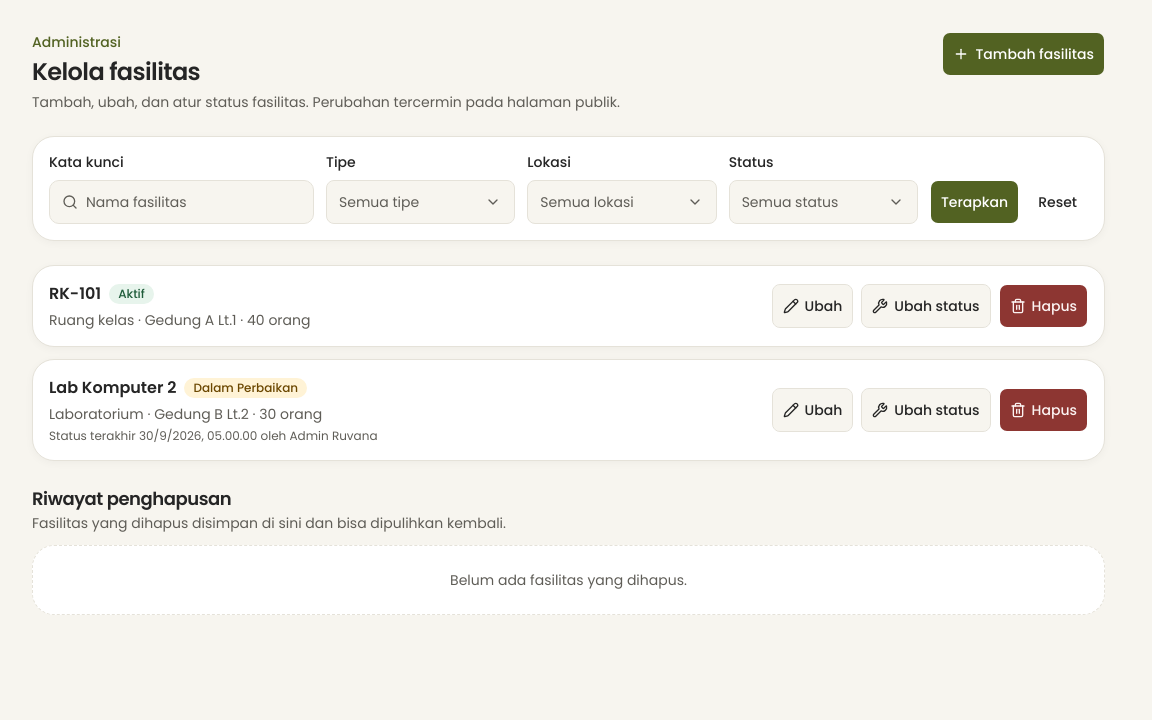
Test: AdminFacilities › membuka sheet tambah fasilitas
The image size is (1152, 720).
Click the button "Tambah fasilitas".
click(1024, 54)  # box [942,32,1105,76]
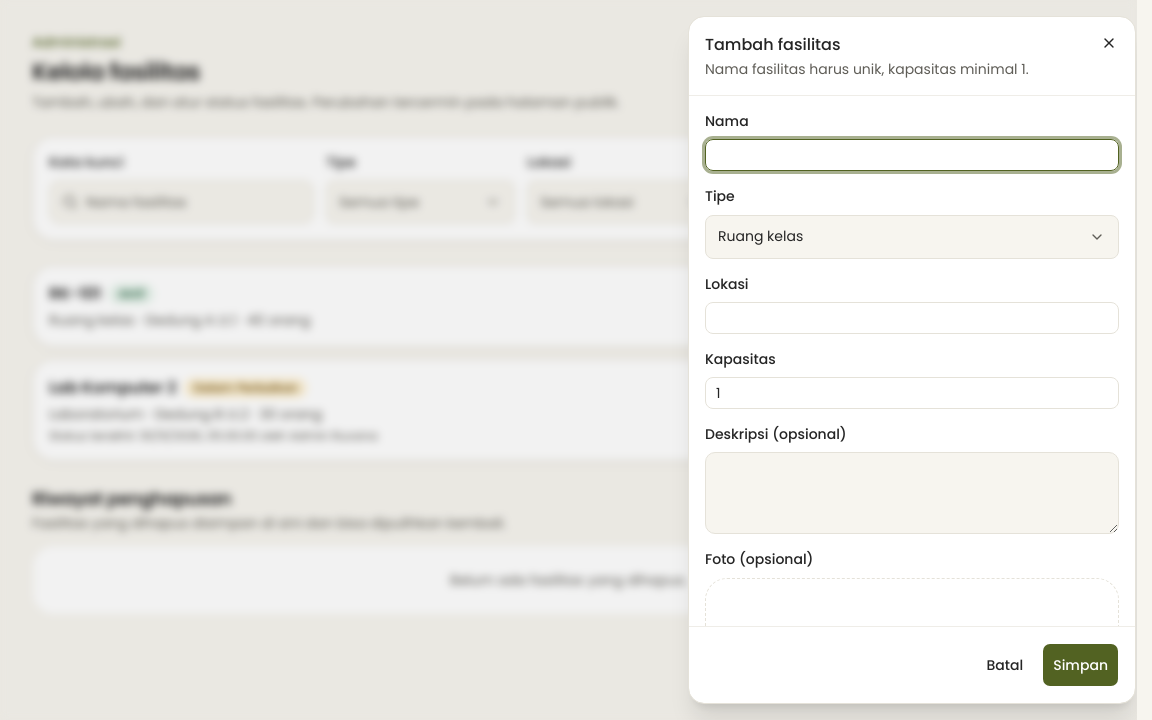
Check: the heading "Tambah fasilitas" is shown, box [705,33,840,56]
Check: the field labelled "Nama" is shown, box [705,139,1119,171]
